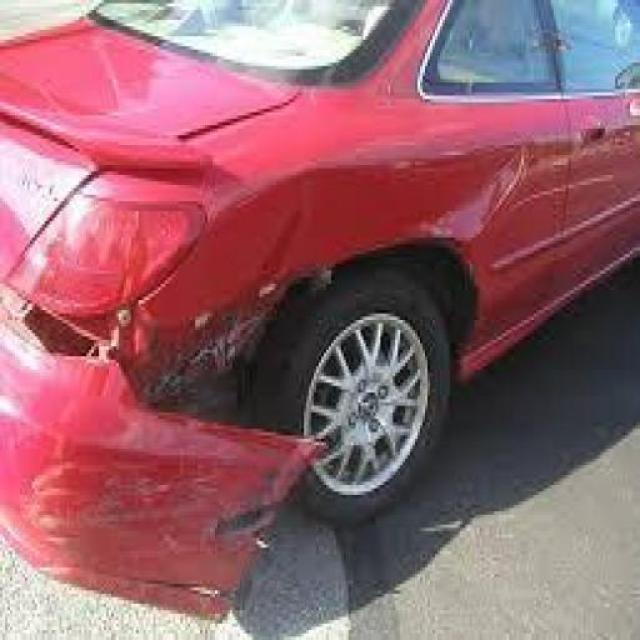crack: (161, 3, 249, 34)
crush: (3, 282, 329, 634)
